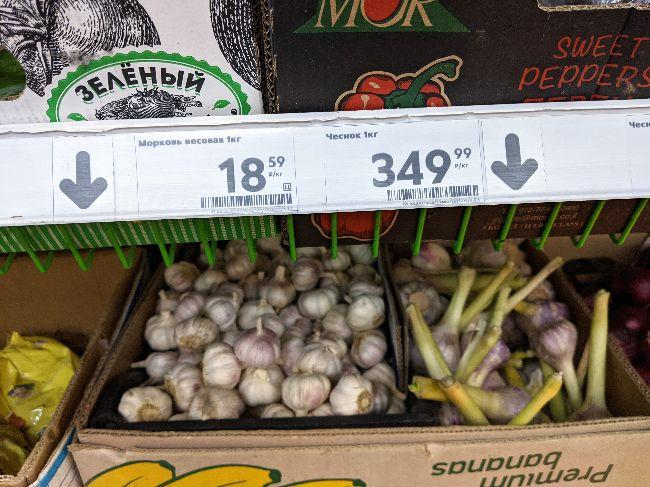garlic: (148, 258, 386, 418), (397, 254, 601, 436)
